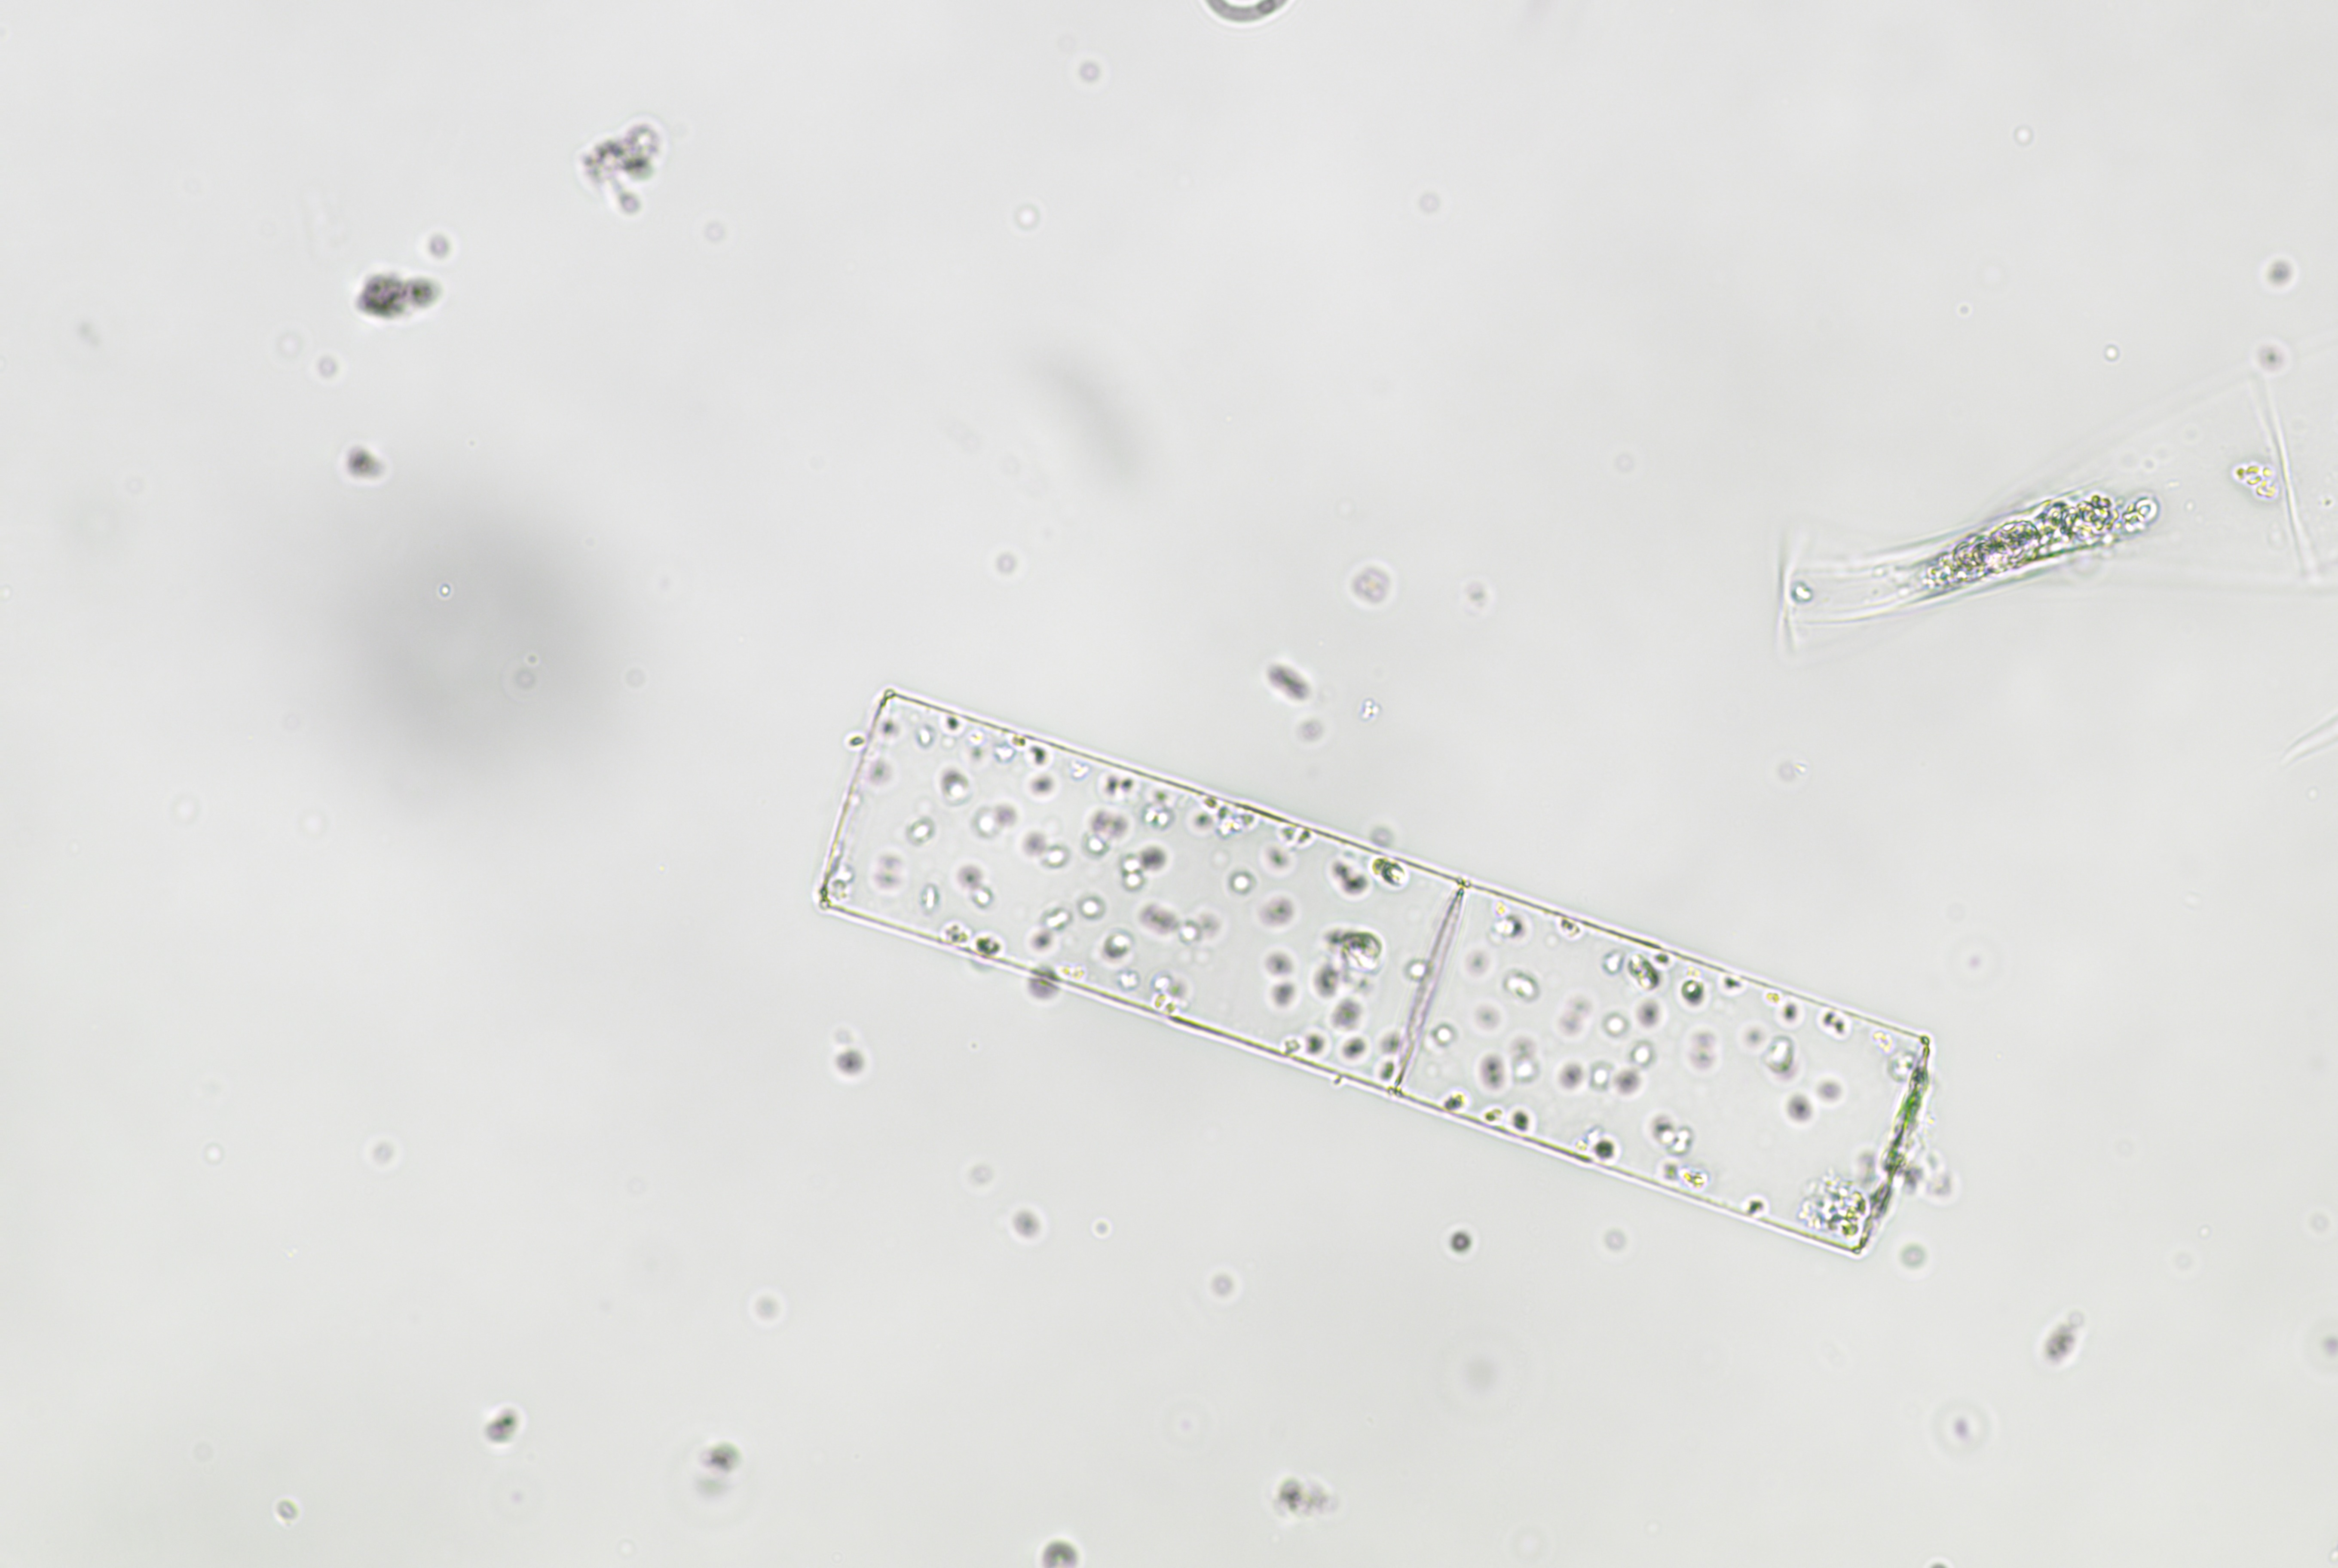guinardia flaccida: (817, 647, 1941, 1274)
